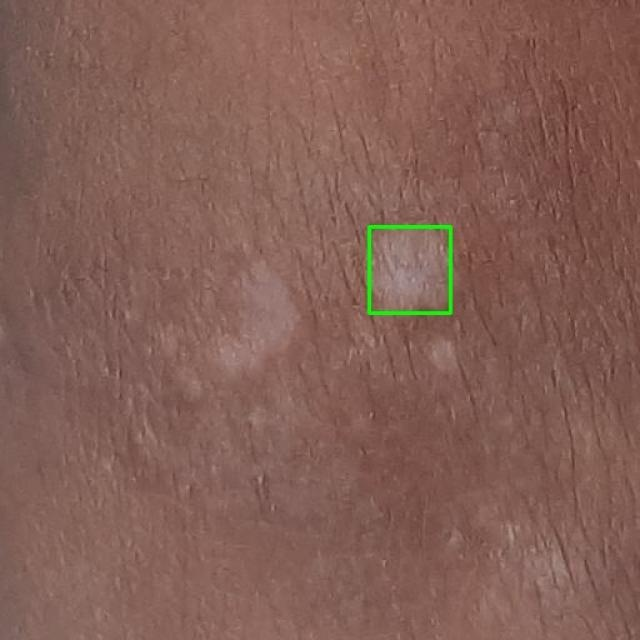Eczema: (369, 226, 450, 312)
